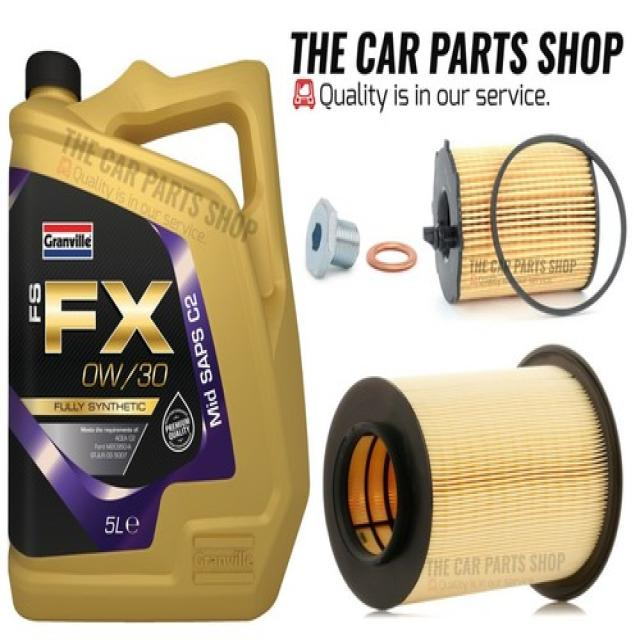motor_oil: (0, 51, 296, 640)
oil_filter: (328, 338, 632, 614), (424, 134, 604, 303)
